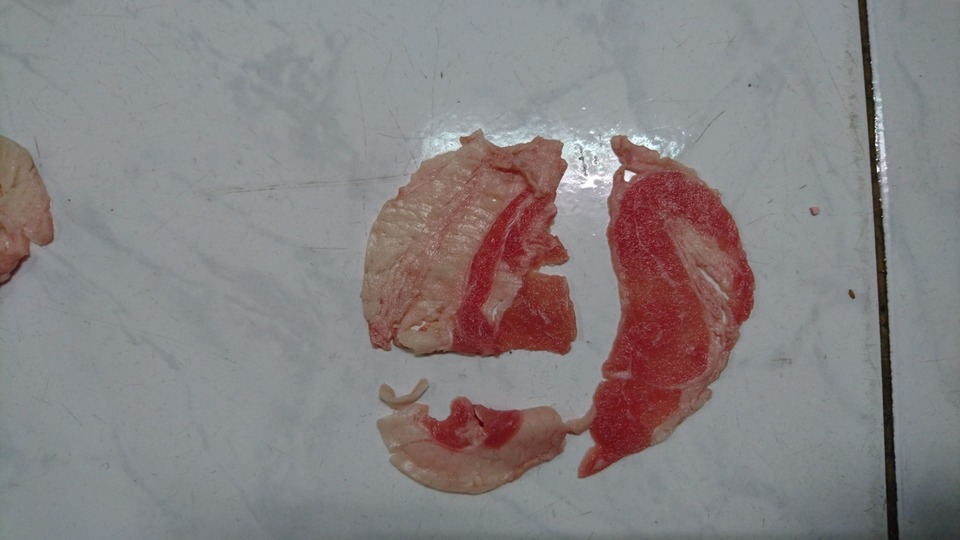restructured meat: (359, 126, 760, 498)
